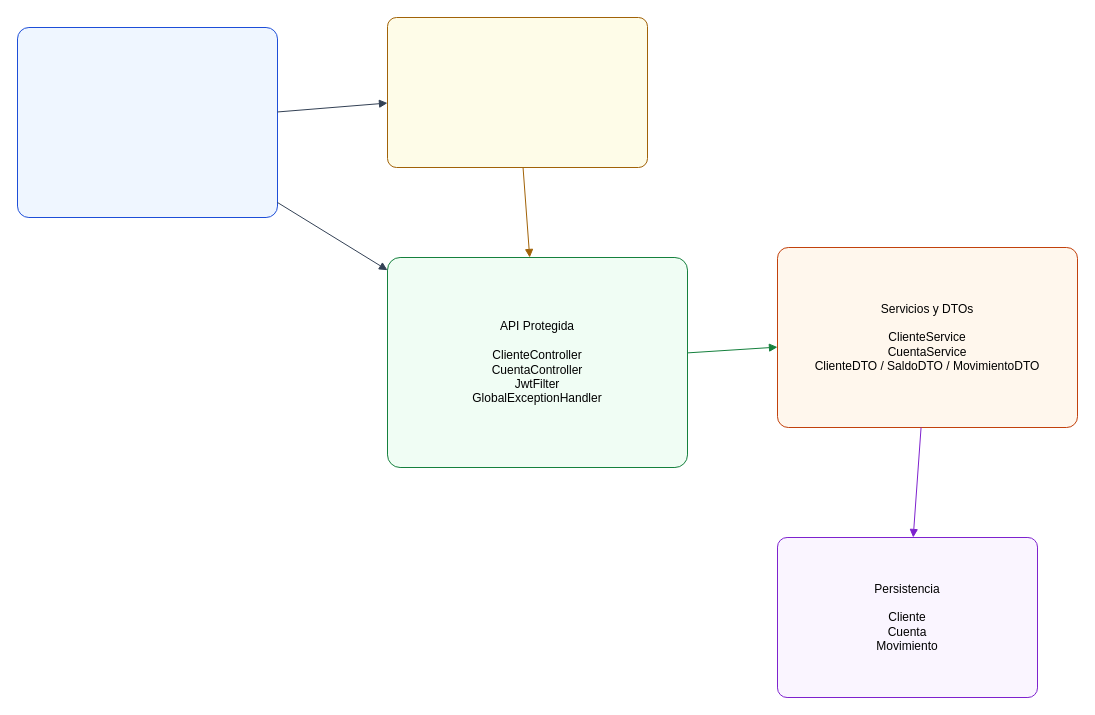
Some shapes in this 1095 by 715 pixel diagram are drawn without their labels. Each missing label, with the box of its shape:
AuthController POST /api/auth/login Devuelve JWT: (386, 16, 648, 168)
Swagger UI Auth Clientes Cuentas Movimientos: (16, 26, 278, 218)
